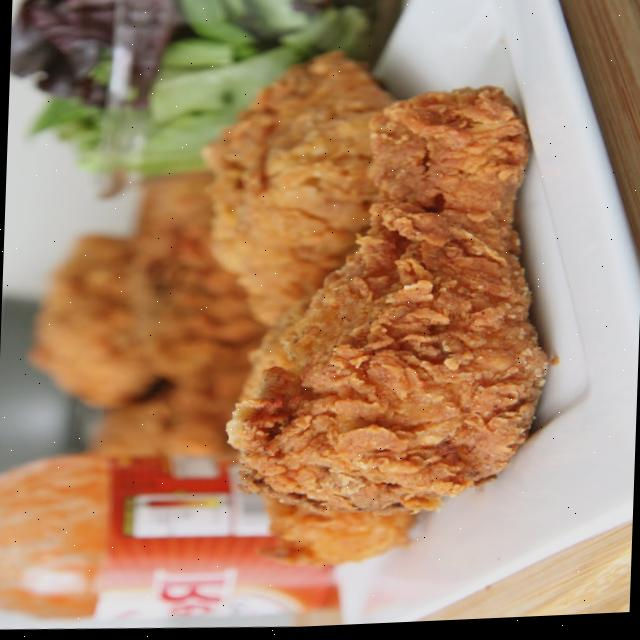Wet: (214, 71, 566, 536)
